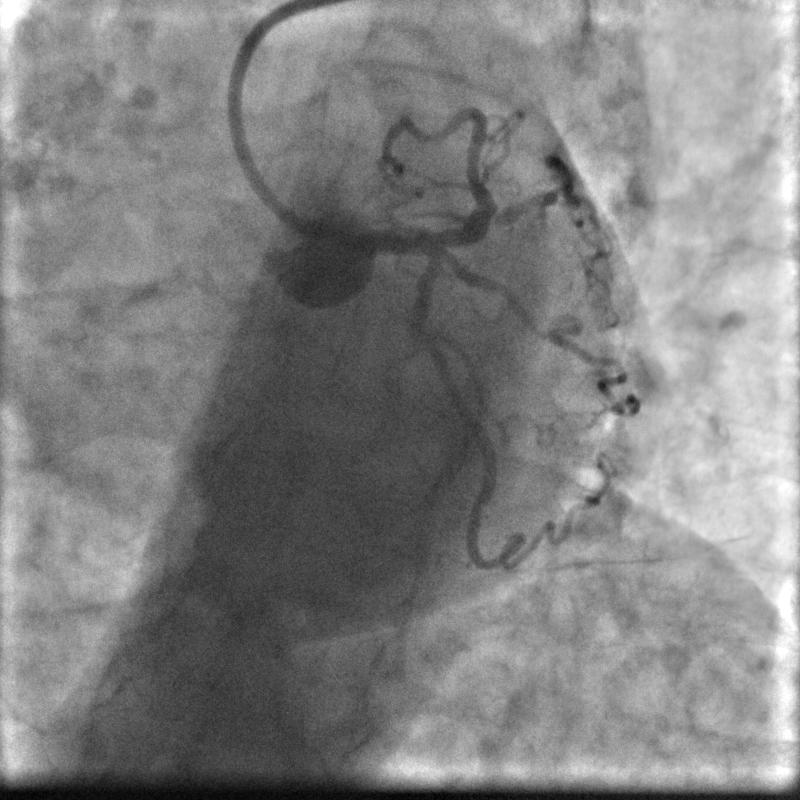Stenosis: (411, 319, 441, 355)
